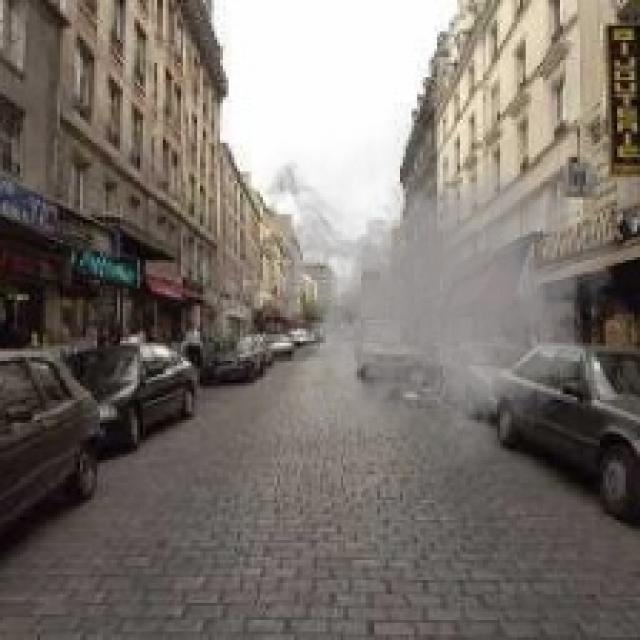smoke: (254, 106, 623, 483)
